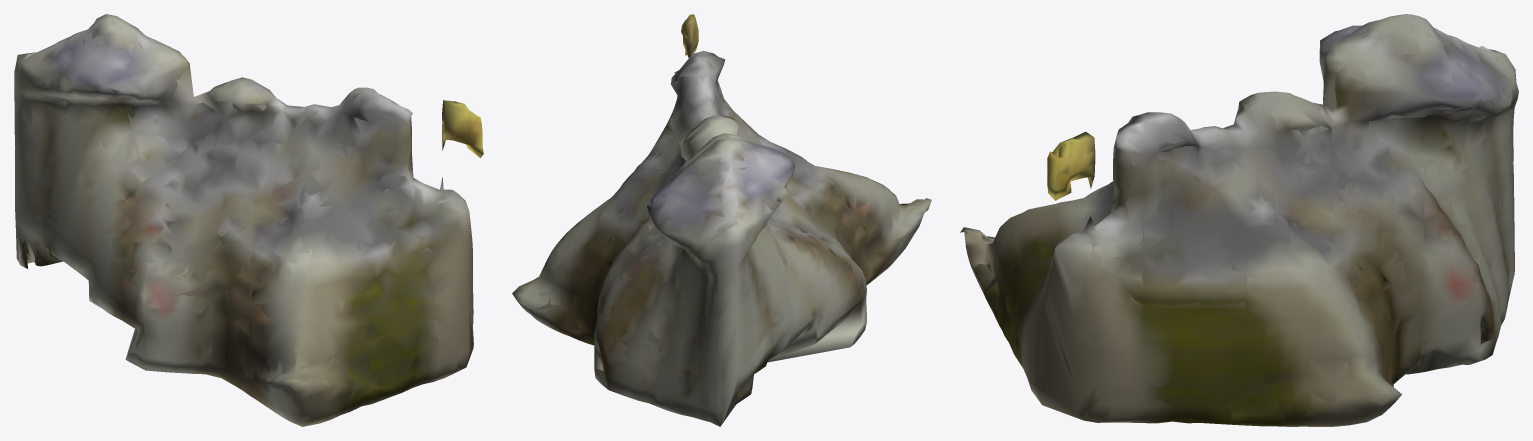
The model's file is tech_hospital.glb.
3 renders of one model, left to right at view 1: azimuth 30°, elevation 25°; view 2: azimuth 150°, elevation 25°; view 3: azimuth 270°, elevation 25°, orthographic. The views are drawn at different scales.
Parts seen in each view (by area): view 1: tech_hospital; view 2: tech_hospital; view 3: tech_hospital.
Part boxes in pixels (x1,y1,x2,y2): tech_hospital: (14,14,483,426); tech_hospital: (512,14,931,426); tech_hospital: (960,14,1518,426).
Size of the model in its own units: 1.62 by 1.35 by 2.3.
